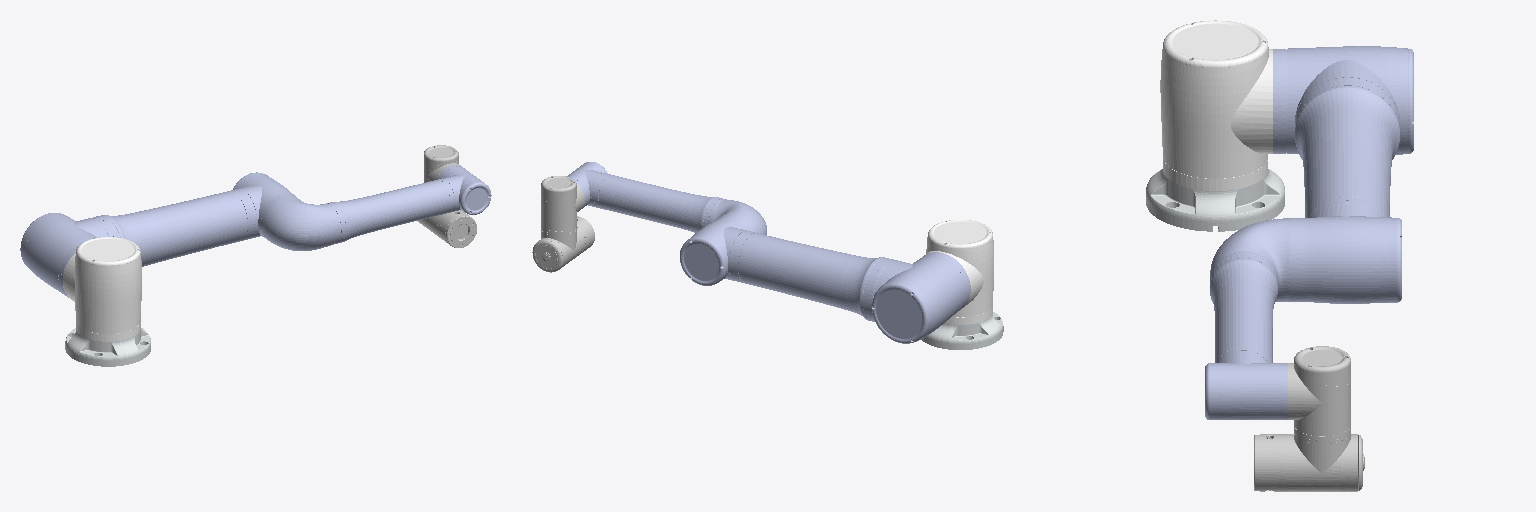
robot.urdf — jaka_zu30:
<?xml version="1.0" encoding="utf-8"?>
<!-- This URDF was automatically created by SolidWorks to URDF Exporter! Originally created by [author] ([email redacted]) 
     Commit Version: 1.5.1-0-g916b5db  Build Version: 1.5.7152.31018
     For more information, please see http://wiki.ros.org/sw_urdf_exporter -->
<robot
  name="jaka_zu30">

  <link name="world" />


  <link
    name="Empty_Link0">
    <inertial>
      <origin
        xyz="0.0033778 -0.00022265 0.034191"
        rpy="0 0 0" />
      <mass
        value="4.9068" />
      <inertia
        ixx="0.019204"
        ixy="-2.3227E-07"
        ixz="-0.00011247"
        iyy="0.018856"
        iyz="6.6222E-06"
        izz="0.035003" />
    </inertial>
    <visual>
      <origin
        xyz="0 0 0"
        rpy="0 0 0" />
      <geometry>
        <mesh
          filename="package://jaka_description/meshes/jaka_zu30_meshes/Empty_Link0.STL" />
      </geometry>
      <material
        name="">
        <color
          rgba="0.89804 0.91765 0.92941 1" />
      </material>
    </visual>
    <collision>
      <origin
        xyz="0 0 0"
        rpy="0 0 0" />
      <geometry>
        <mesh
          filename="package://jaka_description/meshes/jaka_zu30_meshes/Empty_Link0.STL" />
      </geometry>
    </collision>
  </link>

  <!-- JOINT -->
  <joint name="fixed" type="fixed">
     <parent link="world"/>
     <child link="Empty_Link0"/>
  </joint>

  <link
    name="Empty_Link1">
    <inertial>
      <origin
        xyz="-8.8598E-07 0.0056159 -0.0066183"
        rpy="0 0 0" />
      <mass
        value="7.5342" />
      <inertia
        ixx="0.055309"
        ixy="8.6465E-08"
        ixz="1.4129E-07"
        iyy="0.053715"
        iyz="-0.00019613"
        izz="0.037383" />
    </inertial>
    <visual>
      <origin
        xyz="0 0 0"
        rpy="0 0 0" />
      <geometry>
        <mesh
          filename="package://jaka_description/meshes/jaka_zu30_meshes/Empty_Link1.STL" />
      </geometry>
      <material
        name="">
        <color
          rgba="1 1 1 1" />
      </material>
    </visual>
    <collision>
      <origin
        xyz="0 0 0"
        rpy="0 0 0" />
      <geometry>
        <mesh
          filename="package://jaka_description/meshes/jaka_zu30_meshes/Empty_Link1.STL" />
      </geometry>
    </collision>
  </link>
  <joint
    name="joint_1"
    type="revolute">
    <origin
      xyz="0.0044104 -0.00027834 0.1965"
      rpy="0 0 0" />
    <parent
      link="Empty_Link0" />
    <child
      link="Empty_Link1" />
    <axis
      xyz="0 0 1" />
    <limit
      lower="-6.28"
      upper="6.28"
      effort="3000"
      velocity="2.09" />
  </joint>
  <link
    name="Empty_Link2">
    <inertial>
      <origin
        xyz="0.27137 -2.2132E-07 -0.22936"
        rpy="0 0 0" />
      <mass
        value="19.903" />
      <inertia
        ixx="0.096293"
        ixy="-2.2596E-06"
        ixz="0.0085057"
        iyy="1.3904"
        iyz="-2.8112E-07"
        izz="1.3666" />
    </inertial>
    <visual>
      <origin
        xyz="0 0 0"
        rpy="0 0 0" />
      <geometry>
        <mesh
          filename="package://jaka_description/meshes/jaka_zu30_meshes/Empty_Link2.STL" />
      </geometry>
      <material
        name="">
        <color
          rgba="0.79216 0.81961 0.93333 1" />
      </material>
    </visual>
    <collision>
      <origin
        xyz="0 0 0"
        rpy="0 0 0" />
      <geometry>
        <mesh
          filename="package://jaka_description/meshes/jaka_zu30_meshes/Empty_Link2.STL" />
      </geometry>
    </collision>
  </link>
  <joint
    name="joint_2"
    type="revolute">
    <origin
      xyz="0 0 0"
      rpy="1.5708 0 0" />
    <parent
      link="Empty_Link1" />
    <child
      link="Empty_Link2" />
    <axis
      xyz="0 0 1" />
    <limit
      lower="-1.48"
      upper="4.62"
      effort="9000"
      velocity="2.09" />
  </joint>
  <link
    name="Empty_Link3">
    <inertial>
      <origin
        xyz="0.25044 -7.5432E-07 -0.05733"
        rpy="0 0 0" />
      <mass
        value="6.782" />
      <inertia
        ixx="0.013304"
        ixy="-1.1062E-06"
        ixz="-0.0088098"
        iyy="0.28438"
        iyz="-2.6665E-07"
        izz="0.28253" />
    </inertial>
    <visual>
      <origin
        xyz="0 0 0"
        rpy="0 0 0" />
      <geometry>
        <mesh
          filename="package://jaka_description/meshes/jaka_zu30_meshes/Empty_Link3.STL" />
      </geometry>
      <material
        name="">
        <color
          rgba="0.79216 0.81961 0.93333 1" />
      </material>
    </visual>
    <collision>
      <origin
        xyz="0 0 0"
        rpy="0 0 0" />
      <geometry>
        <mesh
          filename="package://jaka_description/meshes/jaka_zu30_meshes/Empty_Link3.STL" />
      </geometry>
    </collision>
  </link>
  <joint
    name="joint_3"
    type="revolute">
    <origin
      xyz="0.6625 0 0"
      rpy="0 0 0" />
    <parent
      link="Empty_Link2" />
    <child
      link="Empty_Link3" />
    <axis
      xyz="0 0 1" />
    <limit
      lower="-3.05"
      upper="3.05"
      effort="9000"
      velocity="2.09" />
  </joint>
  <link
    name="Empty_Link4">
    <inertial>
      <origin
        xyz="-4.9353E-08 -0.0057267 0.0052352"
        rpy="0 0 0" />
      <mass
        value="1.2892" />
      <inertia
        ixx="0.0031175"
        ixy="1.6387E-09"
        ixz="-4.7004E-09"
        iyy="0.0019091"
        iyz="-3.865E-05"
        izz="0.0029354" />
    </inertial>
    <visual>
      <origin
        xyz="0 0 0"
        rpy="0 0 0" />
      <geometry>
        <mesh
          filename="package://jaka_description/meshes/jaka_zu30_meshes/Empty_Link4.STL" />
      </geometry>
      <material
        name="">
        <color
          rgba="0.84706 0.84706 0.84706 1" />
      </material>
    </visual>
    <collision>
      <origin
        xyz="0 0 0"
        rpy="0 0 0" />
      <geometry>
        <mesh
          filename="package://jaka_description/meshes/jaka_zu30_meshes/Empty_Link4.STL" />
      </geometry>
    </collision>
  </link>
  <joint
    name="joint_4"
    type="revolute">
    <origin
      xyz="0.549 0 -0.18835"
      rpy="0 0 0" />
    <parent
      link="Empty_Link3" />
    <child
      link="Empty_Link4" />
    <axis
      xyz="0 0 1" />
    <limit
      lower="-1.48"
      upper="4.62"
      effort="6000"
      velocity="3.84" />
  </joint>
  <link
    name="Empty_Link5">
    <inertial>
      <origin
        xyz="-4.0193E-08 0.0035719 -0.0051183"
        rpy="0 0 0" />
      <mass
        value="1.33" />
      <inertia
        ixx="0.003343"
        ixy="-3.6485E-10"
        ixz="4.8841E-09"
        iyy="0.0019534"
        iyz="-2.4314E-05"
        izz="0.0031635" />
    </inertial>
    <visual>
      <origin
        xyz="0 0 0"
        rpy="0 0 0" />
      <geometry>
        <mesh
          filename="package://jaka_description/meshes/jaka_zu30_meshes/Empty_Link5.STL" />
      </geometry>
      <material
        name="">
        <color
          rgba="0.84706 0.84706 0.84706 1" />
      </material>
    </visual>
    <collision>
      <origin
        xyz="0 0 0"
        rpy="0 0 0" />
      <geometry>
        <mesh
          filename="package://jaka_description/meshes/jaka_zu30_meshes/Empty_Link5.STL" />
      </geometry>
    </collision>
  </link>
  <joint
    name="joint_5"
    type="revolute">
    <origin
      xyz="0 -0.1385 0"
      rpy="1.5708 0 0" />
    <parent
      link="Empty_Link4" />
    <child
      link="Empty_Link5" />
    <axis
      xyz="0 0 1" />
    <limit
      lower="-6.28"
      upper="6.28"
      effort="6000"
      velocity="3.84" />
  </joint>
  <link
    name="Empty_Link6">
    <inertial>
      <origin
        xyz="-0.00031973 0.00011874 -0.022089"
        rpy="0 0 0" />
      <mass
        value="0.31241" />
      <inertia
        ixx="0.00024421"
        ixy="7.2248E-08"
        ixz="-3.3291E-07"
        iyy="0.00024881"
        iyz="2.0087E-07"
        izz="0.00040651" />
    </inertial>
    <visual>
      <origin
        xyz="0 0 0"
        rpy="0 0 0" />
      <geometry>
        <mesh
          filename="package://jaka_description/meshes/jaka_zu30_meshes/Empty_Link6.STL" />
      </geometry>
      <material
        name="">
        <color
          rgba="0.84706 0.84706 0.84706 1" />
      </material>
    </visual>
    <collision>
      <origin
        xyz="0 0 0"
        rpy="0 0 0" />
      <geometry>
        <mesh
          filename="package://jaka_description/meshes/jaka_zu30_meshes/Empty_Link6.STL" />
      </geometry>
    </collision>
  </link>
  <joint
    name="joint_6"
    type="revolute">
    <origin
      xyz="0.00039033 0.1205 0"
      rpy="-1.5708 0 0" />
    <parent
      link="Empty_Link5" />
    <child
      link="Empty_Link6" />
    <axis
      xyz="0 0 1" />
    <limit
      lower="-6.28"
      upper="6.28"
      effort="2000"
      velocity="3.84" />
  </joint>

  <transmission name="trans_joint_1">
    <type>transmission_interface/SimpleTransmission</type>
    <joint name="joint_1">
      <hardwareInterface>hardware_interface/PositionJointInterface</hardwareInterface>
    </joint>
    <actuator name="joint_1_motor">
      <hardwareInterface>hardware_interface/PositionJointInterface</hardwareInterface>
      <mechanicalReduction>1</mechanicalReduction>
    </actuator>
  </transmission>
  <transmission name="trans_joint_2">
    <type>transmission_interface/SimpleTransmission</type>
    <joint name="joint_2">
      <hardwareInterface>hardware_interface/PositionJointInterface</hardwareInterface>
    </joint>
    <actuator name="joint_2_motor">
      <hardwareInterface>hardware_interface/PositionJointInterface</hardwareInterface>
      <mechanicalReduction>1</mechanicalReduction>
    </actuator>
  </transmission>
  <transmission name="trans_joint_3">
    <type>transmission_interface/SimpleTransmission</type>
    <joint name="joint_3">
      <hardwareInterface>hardware_interface/PositionJointInterface</hardwareInterface>
    </joint>
    <actuator name="joint_3_motor">
      <hardwareInterface>hardware_interface/PositionJointInterface</hardwareInterface>
      <mechanicalReduction>1</mechanicalReduction>
    </actuator>
  </transmission>
  <transmission name="trans_joint_4">
    <type>transmission_interface/SimpleTransmission</type>
    <joint name="joint_4">
      <hardwareInterface>hardware_interface/PositionJointInterface</hardwareInterface>
    </joint>
    <actuator name="joint_4_motor">
      <hardwareInterface>hardware_interface/PositionJointInterface</hardwareInterface>
      <mechanicalReduction>1</mechanicalReduction>
    </actuator>
  </transmission>
  <transmission name="trans_joint_5">
    <type>transmission_interface/SimpleTransmission</type>
    <joint name="joint_5">
      <hardwareInterface>hardware_interface/PositionJointInterface</hardwareInterface>
    </joint>
    <actuator name="joint_5_motor">
      <hardwareInterface>hardware_interface/PositionJointInterface</hardwareInterface>
      <mechanicalReduction>1</mechanicalReduction>
    </actuator>
  </transmission>
  <transmission name="trans_joint_6">
    <type>transmission_interface/SimpleTransmission</type>
    <joint name="joint_6">
      <hardwareInterface>hardware_interface/PositionJointInterface</hardwareInterface>
    </joint>
    <actuator name="joint_6_motor">
      <hardwareInterface>hardware_interface/PositionJointInterface</hardwareInterface>
      <mechanicalReduction>1</mechanicalReduction>
    </actuator>
  </transmission>
  <gazebo>
    <plugin name="gazebo_ros_control" filename="libgazebo_ros_control.so">
      <robotNamespace>/</robotNamespace>
    </plugin>
  </gazebo>
</robot>

--- What the picture shows (computed from the rendered views, not written in the file) ---
3 views of the same robot in one strip: view 1: azimuth 30°, elevation 25°; view 2: azimuth 150°, elevation 25°; view 3: azimuth 270°, elevation 25° (orthographic).
Model jaka_zu30 with 8 links and 7 joints (6 revolute, 1 fixed), rooted at world, posed every joint at zero.
Links seen in each view (by area): view 1: Empty_Link2, Empty_Link3, Empty_Link1, Empty_Link0, Empty_Link6, Empty_Link4; view 2: Empty_Link2, Empty_Link3, Empty_Link1, Empty_Link4, Empty_Link0, Empty_Link5; view 3: Empty_Link2, Empty_Link1, Empty_Link3, Empty_Link0, Empty_Link4, Empty_Link5, Empty_Link6.
Boxes of the visible links, x1,y1,x2,y2 form: Empty_Link2: [20, 172, 296, 297]; Empty_Link3: [263, 165, 491, 250]; Empty_Link1: [63, 237, 141, 341]; Empty_Link0: [65, 328, 150, 366]; Empty_Link6: [440, 211, 476, 247]; Empty_Link4: [424, 145, 460, 182]; Empty_Link2: [680, 213, 970, 343]; Empty_Link3: [567, 162, 766, 234]; Empty_Link1: [926, 220, 993, 324]; Empty_Link4: [541, 176, 584, 235]; Empty_Link0: [921, 312, 1003, 349]; Empty_Link5: [532, 224, 587, 272]; Empty_Link2: [1273, 46, 1413, 303]; Empty_Link1: [1160, 20, 1272, 190]; Empty_Link3: [1205, 218, 1288, 419]; Empty_Link0: [1146, 169, 1284, 231]; Empty_Link4: [1288, 346, 1350, 443]; Empty_Link5: [1278, 434, 1364, 491]; Empty_Link6: [1254, 434, 1277, 491].
Size in the robot's own frame: 1.39 by 0.473 by 0.314 metres.
7 mesh visuals loaded from 7 distinct referenced files (7 binary STL).
